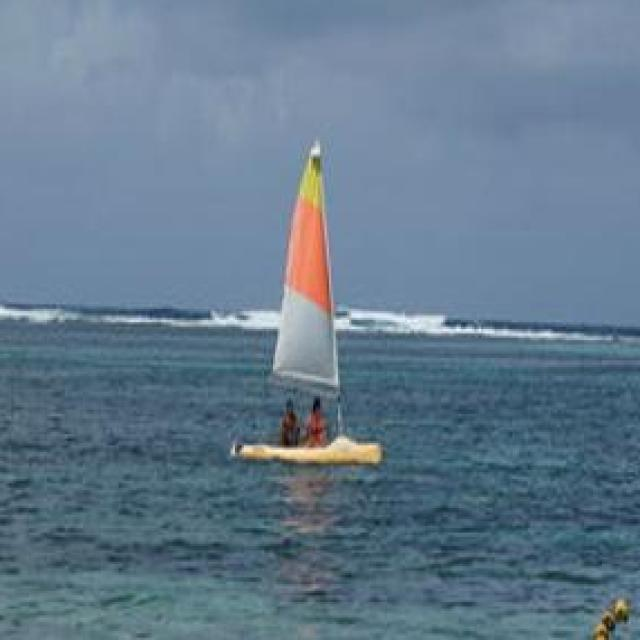sailboat: (214, 140, 388, 468)
